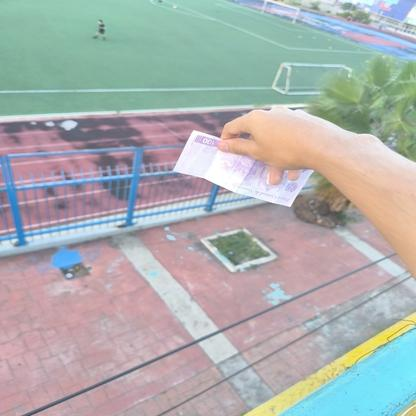one_hundred-back-vef: (172, 129, 315, 208)
